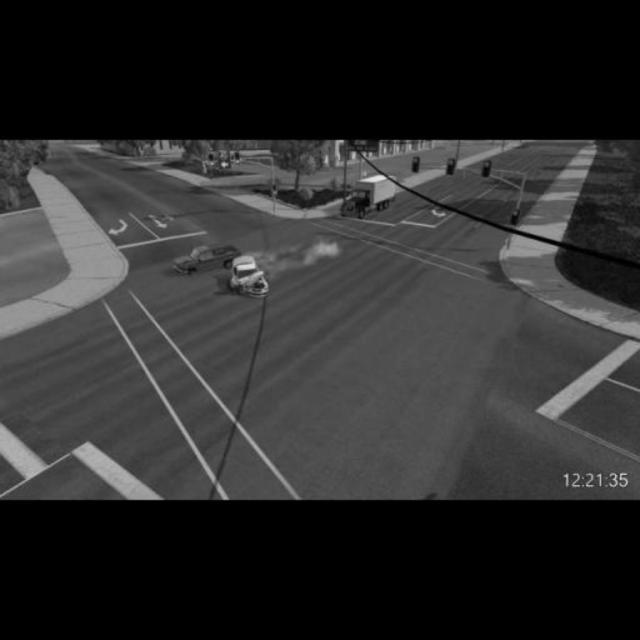accident: (168, 245, 274, 293)
vehicle: (339, 177, 407, 231)
